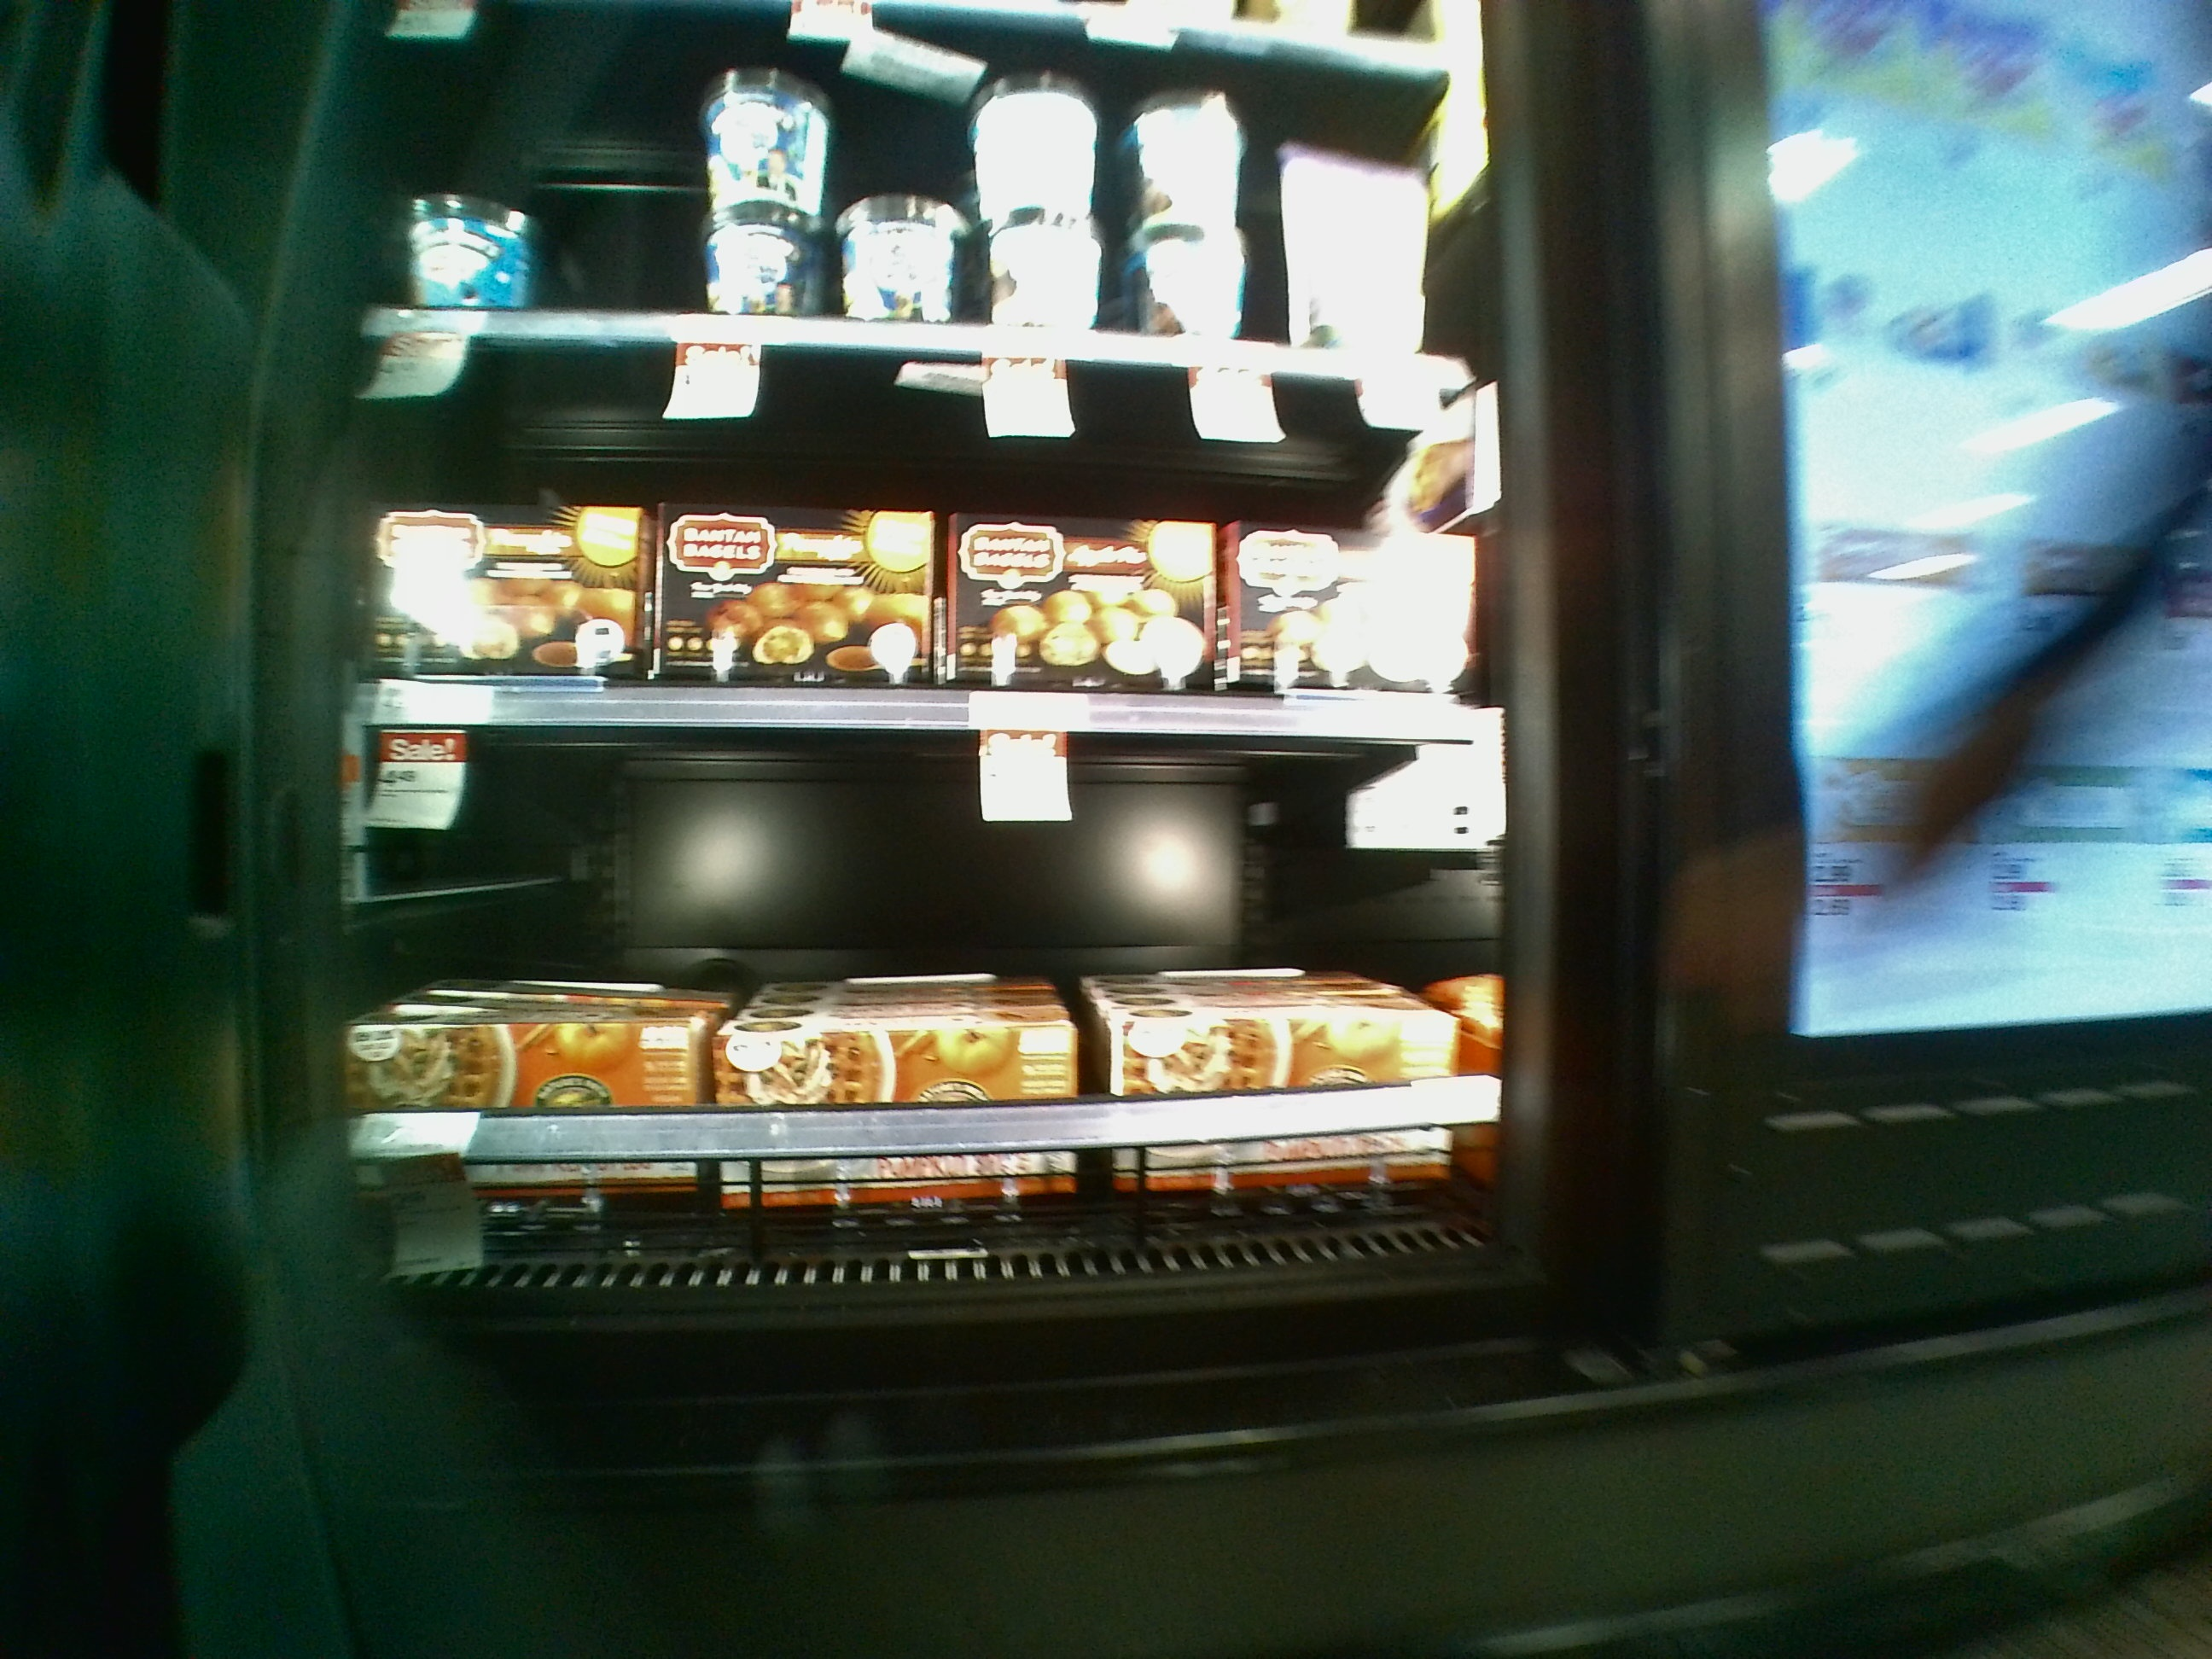shelf: (280, 711, 1555, 1305), (319, 326, 1496, 760)
